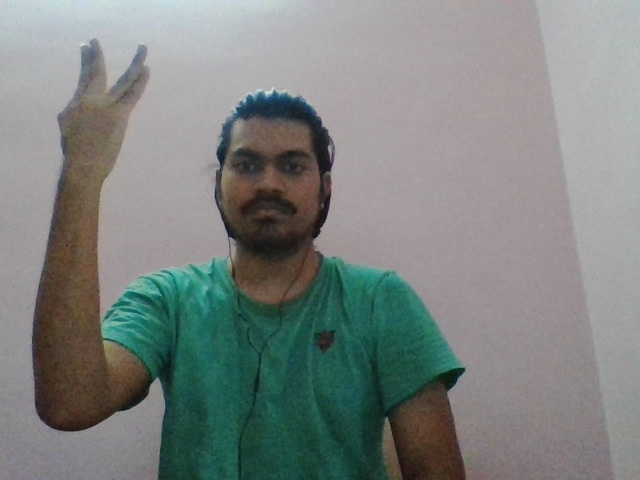LiveLong: (57, 37, 153, 176)
